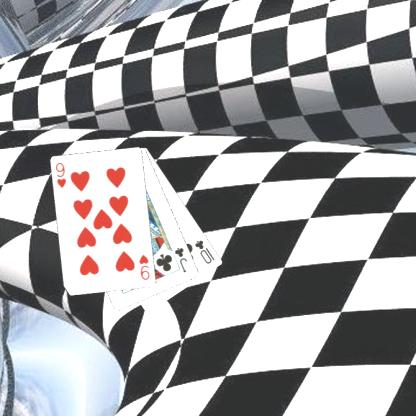10C: (192, 237, 216, 265)
9H: (136, 251, 152, 282), (52, 160, 67, 190)
JC: (172, 244, 189, 274)
